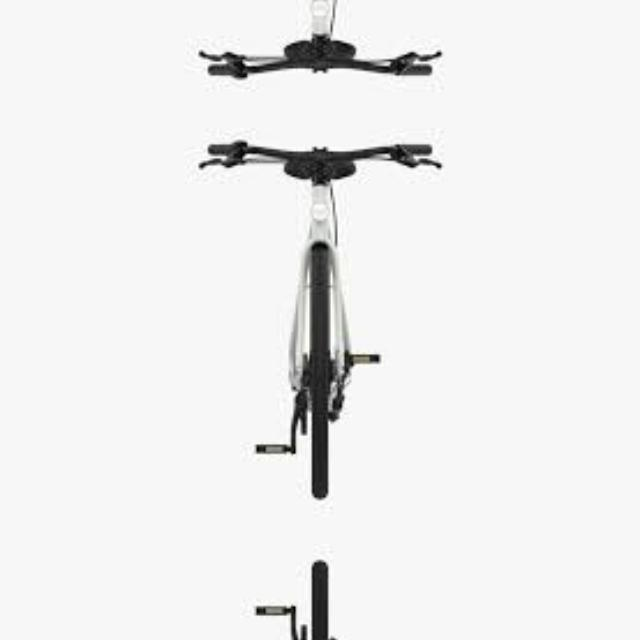obstacle: (198, 127, 452, 506), (198, 0, 452, 91), (198, 553, 452, 640)
